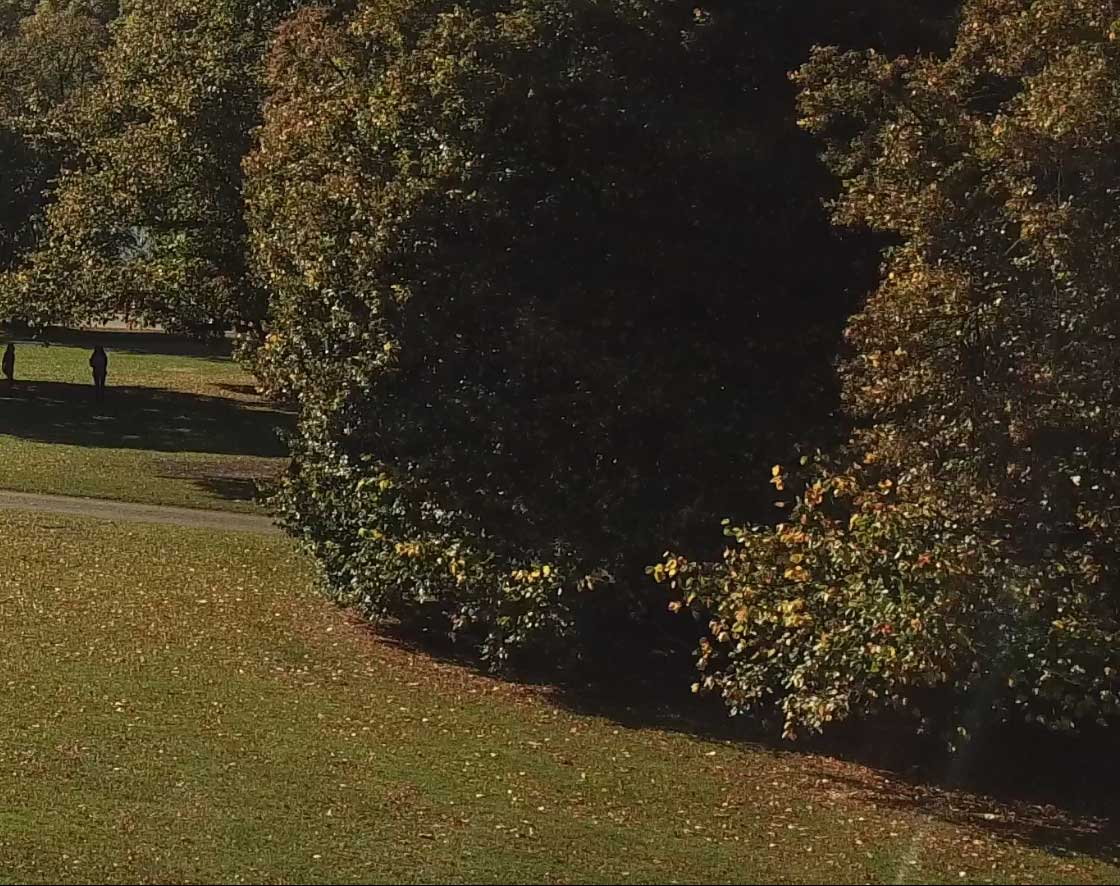trees: (247, 3, 1109, 750)
